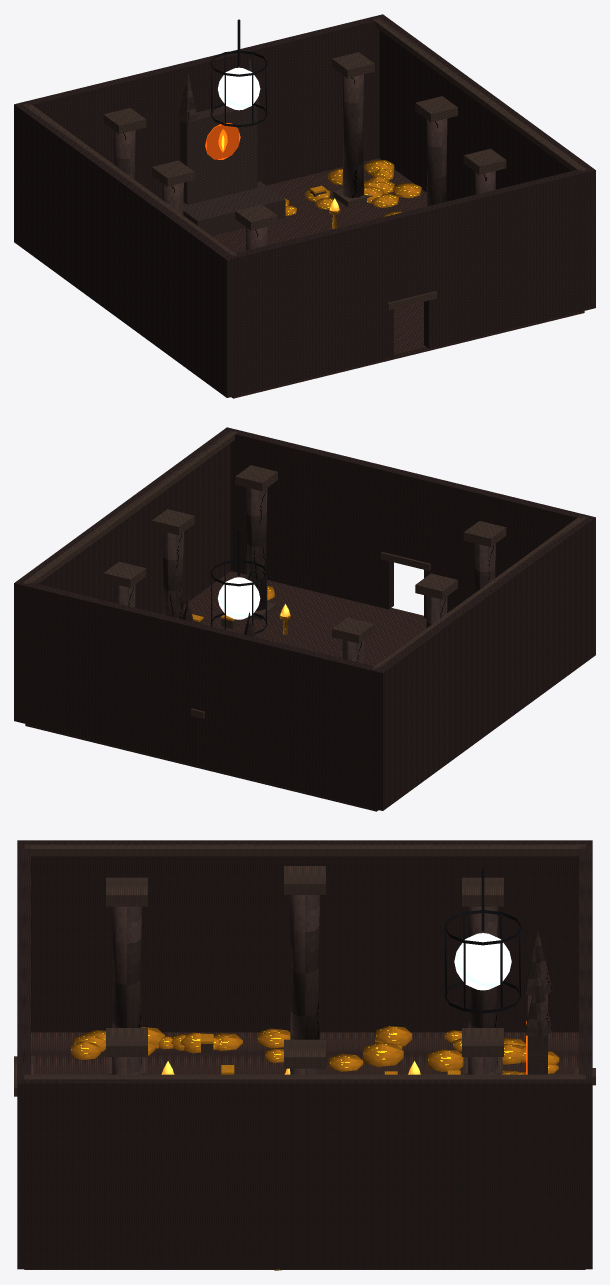
File: f_hort.glb
3 views of the same model, one above another, from view 1: azimuth 30°, elevation 25°; view 2: azimuth 150°, elevation 25°; view 3: azimuth 270°, elevation 25° (orthographic). The views are drawn at different scales.
Parts seen in each view (by area): view 1: wallS-1, wallF1, wallF-1, wallB1, wallS1, wallB-1, floor, throneBack, wallFTop, throneBase, cornice1, p5 (+13 smaller); view 2: wallS-1, wallB-1, wallB1, wallF1, wallS1, wallF-1, floor, wallFTop, cornice1, p1, p3, moon (+9 smaller); view 3: wallS1, wallS-1, floor, cornice-1, p2, p0, cornice1, moon, p4, wallB1, wallB-1, wallF-1 (+14 smaller).
Part boxes in pixels (box(x1,y1,x2,y2)): wallS-1: box(14, 102, 235, 397); wallF1: box(424, 169, 587, 348); wallF-1: box(231, 216, 393, 395); wallB1: box(199, 16, 379, 185); wallS1: box(374, 14, 595, 309); wallB-1: box(23, 59, 203, 199); floor: box(212, 158, 584, 398); throneBack: box(179, 106, 257, 204); wallFTop: box(389, 207, 428, 301); throneBase: box(183, 181, 285, 235); cornice1: box(373, 18, 586, 171); p5: box(342, 74, 363, 197); wallS-1: box(374, 515, 595, 810); wallB-1: box(198, 624, 378, 808); wallB1: box(22, 582, 203, 765); wallF1: box(230, 429, 393, 609); wallS1: box(14, 427, 235, 722); wallF-1: box(424, 476, 586, 618); floor: box(25, 571, 426, 811); wallFTop: box(389, 468, 428, 561); cornice1: box(23, 431, 236, 583); p1: box(246, 487, 267, 610); p3: box(162, 531, 183, 619); moon: box(217, 577, 260, 619); wallS1: box(17, 1077, 592, 1269); wallS-1: box(17, 840, 592, 1032); floor: box(24, 1032, 585, 1269); cornice-1: box(24, 844, 585, 856); p2: box(290, 895, 319, 1039); p0: box(112, 906, 141, 1065); cornice1: box(24, 1074, 585, 1079); moon: box(454, 933, 511, 990); p4: box(468, 906, 497, 1065); wallB1: box(579, 961, 592, 1077); wallB-1: box(579, 846, 592, 961); wallF-1: box(17, 846, 30, 950).
Bounding box in the file's own units: 84 × 47.29 × 85.
9 materials, 7 textured.
